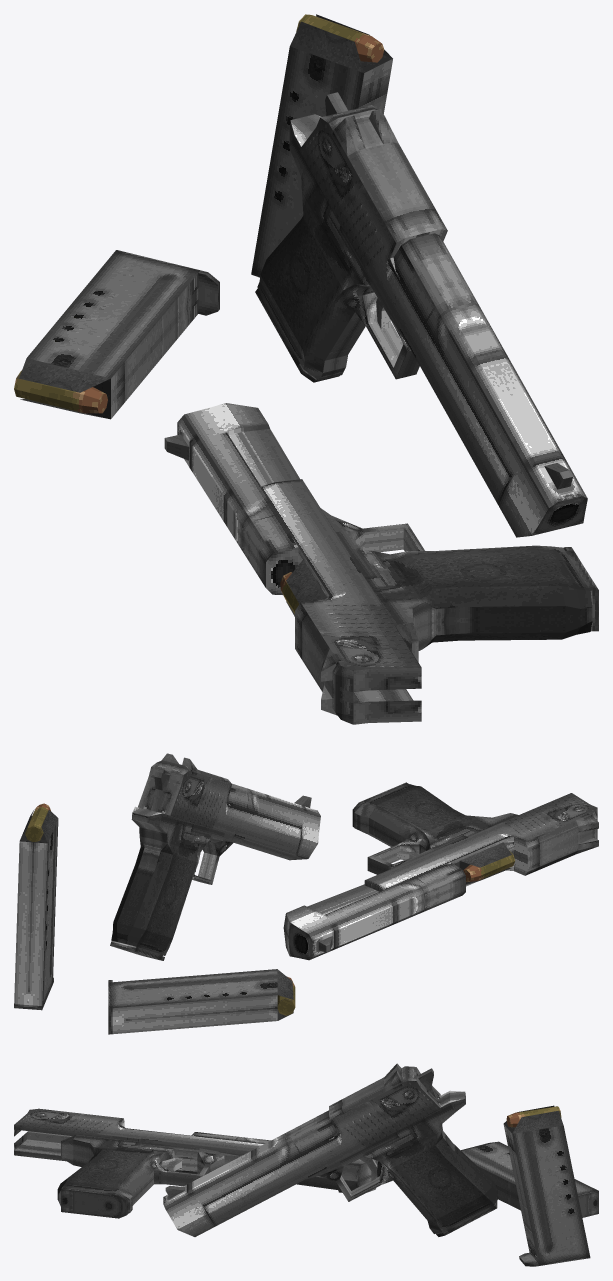
The model's file is DesertEaglePS1.glb.
The picture shows the model from 3 angles, top to bottom: view 1: azimuth 30°, elevation 25°; view 2: azimuth 150°, elevation 25°; view 3: azimuth 270°, elevation 25°; orthographic projection. The views are drawn at different scales.
Visible parts, largest first — view 1: Cube.002, Cube.007, Cube.005, Cube, Cube.011, Cube.010, Cylinder.003, Cube.006, Cylinder.002; view 2: Cube.007, Cube.002, Cube.011, Cube, Cube.010, Cube.005, Cube.006, Cylinder.001, Cylinder.002, Cube.003, Cube.001; view 3: Cube.002, Cube.005, Cube.010, Cube.007, Cube, Cube.011, Cube.006, Cylinder.002, Cube.001.
Boxes of the visible parts, x1,y1,x2,y2 form: Cube.002: (257, 114, 587, 537); Cube.007: (164, 403, 592, 662); Cube.005: (299, 105, 511, 505); Cube: (260, 479, 421, 724); Cube.011: (19, 250, 219, 419); Cube.010: (251, 14, 392, 277); Cylinder.003: (14, 370, 107, 413); Cube.006: (286, 547, 598, 631); Cylinder.002: (296, 14, 384, 62); Cube.007: (283, 784, 518, 960); Cube.002: (111, 783, 320, 955); Cube.011: (108, 969, 293, 1034); Cube: (364, 793, 598, 891); Cube.010: (14, 809, 58, 1010); Cube.005: (138, 753, 302, 855); Cube.006: (352, 782, 511, 884); Cylinder.001: (463, 850, 514, 882); Cylinder.002: (25, 803, 50, 841); Cube.003: (152, 771, 170, 811); Cube.001: (110, 941, 164, 960); Cube.002: (163, 1090, 497, 1236); Cube.005: (203, 1063, 440, 1226); Cube.010: (503, 1105, 590, 1266); Cube.007: (57, 1132, 382, 1213); Cube: (14, 1108, 263, 1161); Cube.011: (461, 1141, 598, 1217); Cube.006: (61, 1187, 127, 1218); Cylinder.002: (506, 1106, 561, 1127); Cube.001: (436, 1201, 497, 1236).
Size of the model in its own units: 4.66 by 2.7 by 8.63.
1 material, 1 textured.
